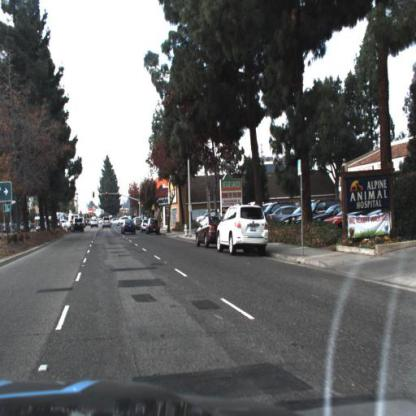car: (216, 201, 273, 258), (294, 195, 340, 225), (195, 213, 222, 251), (269, 205, 298, 226), (117, 217, 140, 238), (316, 206, 344, 223), (325, 210, 349, 228), (147, 216, 163, 239), (72, 217, 87, 236), (100, 214, 114, 232), (141, 214, 150, 237), (90, 219, 101, 228)
